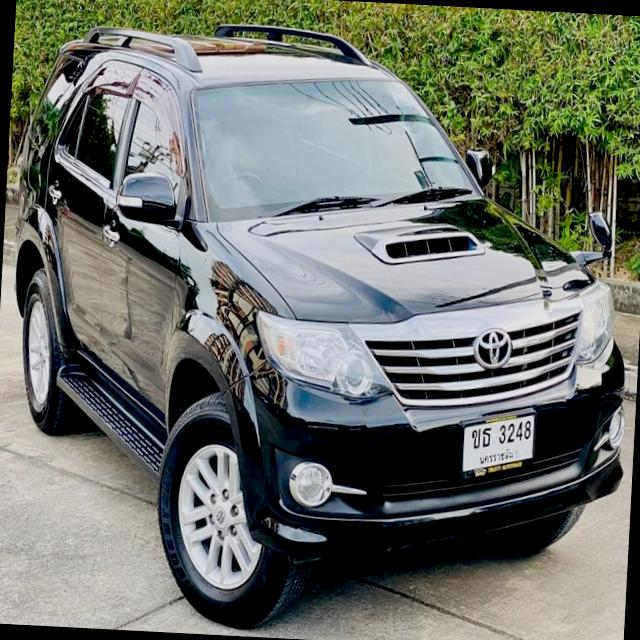license_plate: (457, 405, 540, 484)
